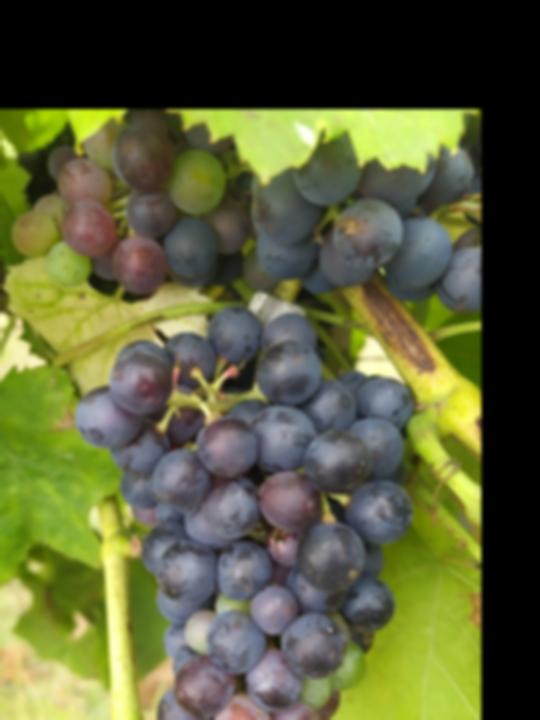grape: (71, 310, 412, 720)
